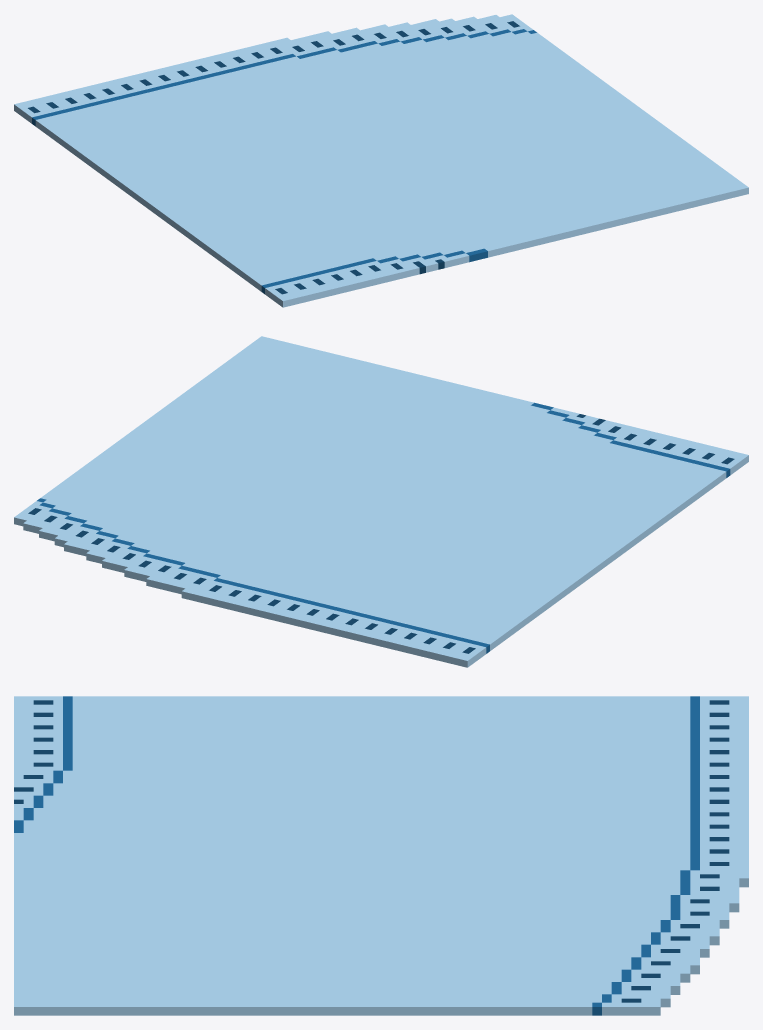
File: 90_Large-0.obj
The picture shows the model from 3 angles, top to bottom: view 1: azimuth 30°, elevation 25°; view 2: azimuth 150°, elevation 25°; view 3: azimuth 270°, elevation 25°; orthographic projection. The views are drawn at different scales.
Visible parts, largest first — view 1: 90_Large-0; view 2: 90_Large-0; view 3: 90_Large-0.
Boxes of the visible parts, x1=… form: 90_Large-0: x1=14, y1=14, x2=748, y2=307; 90_Large-0: x1=14, y1=336, x2=748, y2=667; 90_Large-0: x1=14, y1=696, x2=748, y2=1015.
Size of the model in its own units: 75 by 1 by 75.
Materials: 1 (1 with a texture image).
